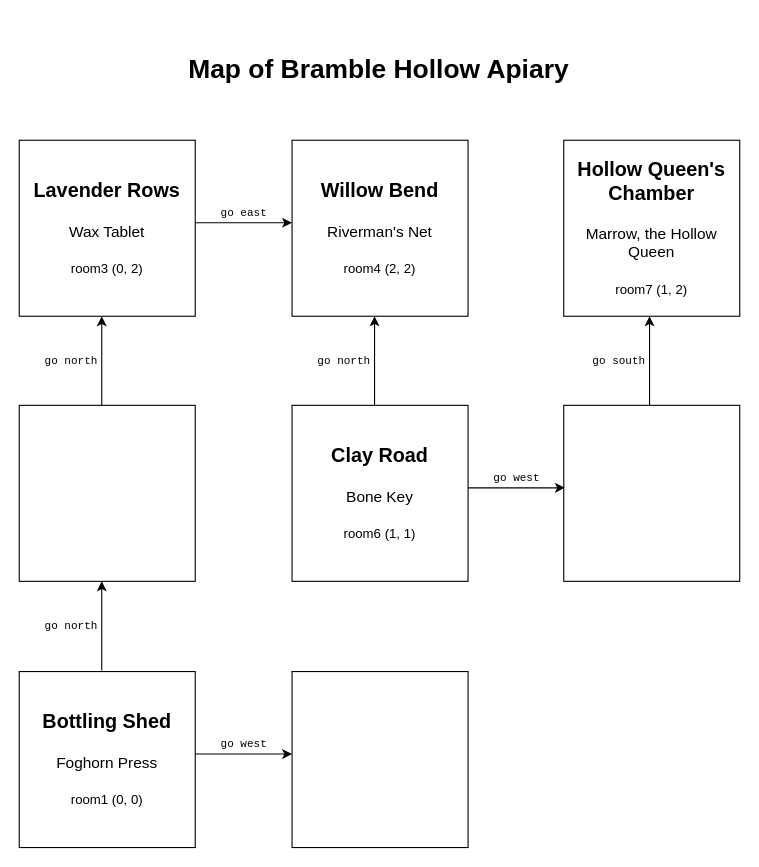
Image size: 759x867. Some labels were removed from this diagram. Here are the shapes that lost their labels. From the top down, the centre of each, then its label:
(106,492): Wax Works Copper Smoker room2 (0, 1)
(651,492): Honey Cellar Harvest Ledger room5 (2, 1)
(379,759): Honey Gate (start room - no item) room0 (1, 0)
